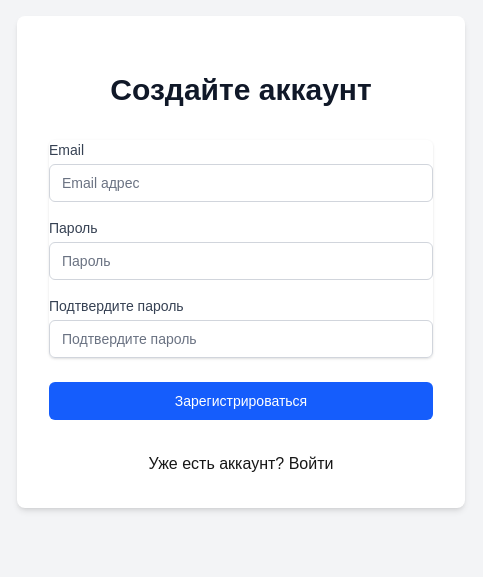
Test: SignUpContent › показывает ошибку при коротком пароле
The image size is (483, 577).
Type "test@example.com" into the field labelled "Email". click: (241, 183)
box: x1=49 y1=164 x2=433 y2=202
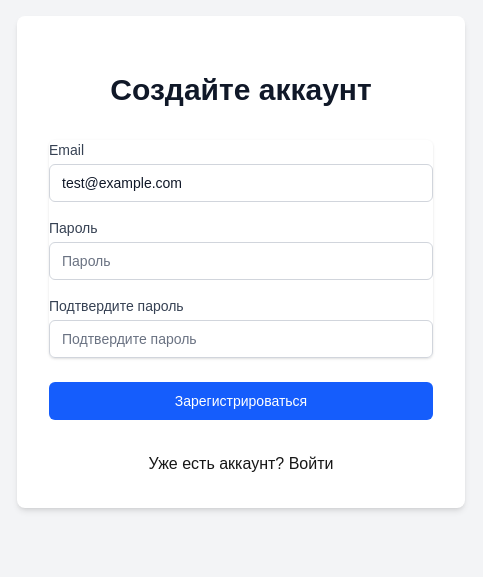
Type "12345" into the password field labelled "Пароль". click: (241, 261)
box: x1=49 y1=242 x2=433 y2=280
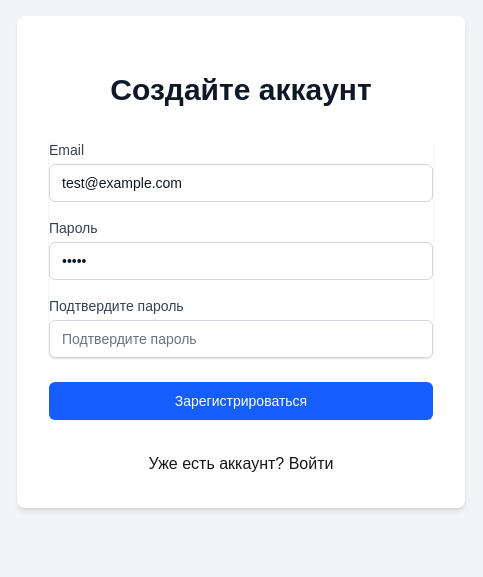
Click the button "Зарегистрироваться". click: (241, 401)
box: x1=49 y1=382 x2=433 y2=420
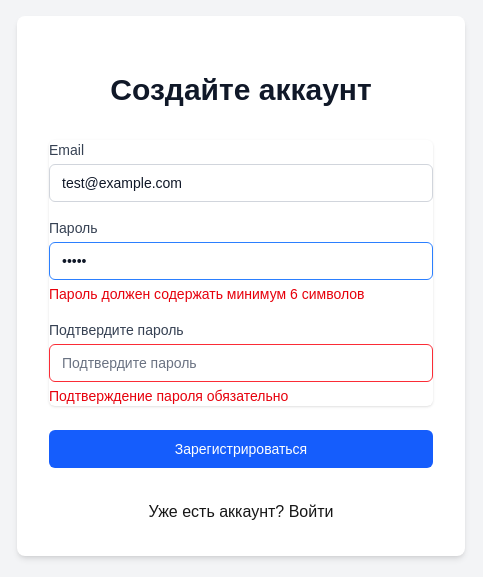
expect the text "Пароль должен содержать минимум 6 символов" is shown: met, box x1=49 y1=286 x2=364 y2=302
